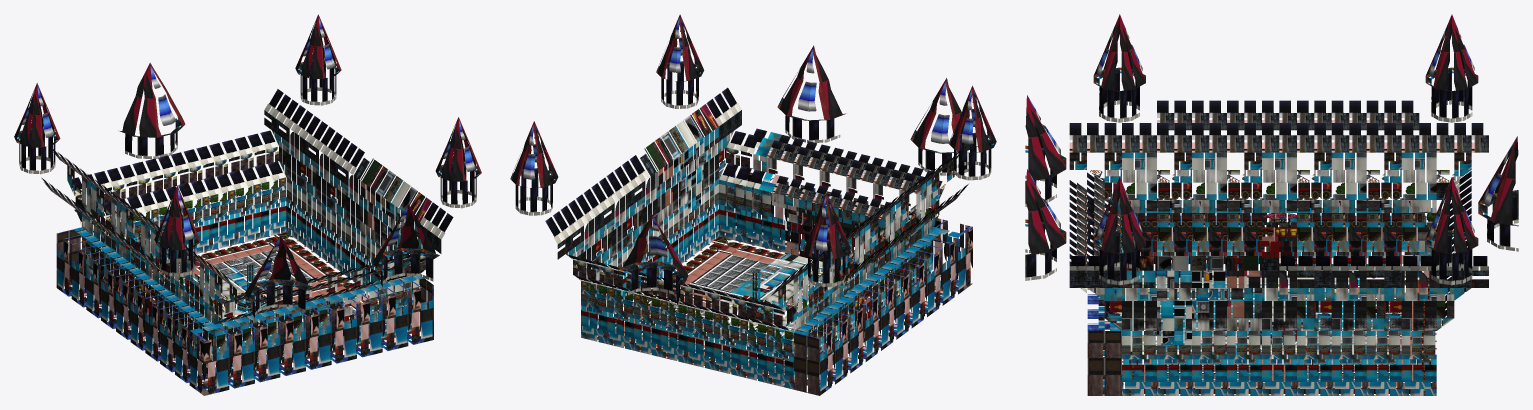
The picture shows the model from 3 angles, left to right: view 1: azimuth 30°, elevation 25°; view 2: azimuth 150°, elevation 25°; view 3: azimuth 270°, elevation 25°; orthographic projection. The views are drawn at different scales.
Parts seen in each view (by area): view 1: T1L1M003_137, T1L1M003_136, T1L1M003_141, T1L1M003_143, T1L1M003_40, T1L1M003_75, T1L1M003_142, T1L1M003_144, T1L1M003_140, T1L1M003_139, T1L1M003_138, T1L1M003_64 (+56 smaller); view 2: T1L1M003_143, T1L1M003_144, T1L1M003_131, T1L1M003_142, T1L1M003_31, T1L1M003_32, T1L1M003_119, T1L1M003_108, T1L1M003_141, T1L1M003_97, T1L1M003_64, T1L1M003_140 (+59 smaller); view 3: T1L1M003_53, T1L1M003_119, T1L1M003_108, T1L1M003_64, T1L1M003_97, T1L1M003_75, T1L1M003_40, T1L1M003_86, T1L1M003_131, T1L1M003_145, T1L1M003_56, T1L1M003_78 (+52 smaller).
Part boxes in pixels (<box>): T1L1M003_137: <box>214,273,254,388</box>; T1L1M003_136: <box>189,236,229,395</box>; T1L1M003_141: <box>317,268,356,363</box>; T1L1M003_143: <box>368,256,408,350</box>; T1L1M003_40: <box>286,105,312,242</box>; T1L1M003_75: <box>330,137,357,274</box>; T1L1M003_142: <box>342,264,382,357</box>; T1L1M003_144: <box>394,252,433,344</box>; T1L1M003_140: <box>291,274,331,369</box>; T1L1M003_139: <box>266,284,305,375</box>; T1L1M003_138: <box>240,286,280,382</box>; T1L1M003_64: <box>316,126,342,263</box>; T1L1M003_143: <box>745,137,787,249</box>; T1L1M003_144: <box>719,131,760,242</box>; T1L1M003_131: <box>675,46,718,247</box>; T1L1M003_142: <box>772,143,813,255</box>; T1L1M003_31: <box>793,252,834,395</box>; T1L1M003_32: <box>767,269,808,389</box>; T1L1M003_119: <box>675,115,703,258</box>; T1L1M003_108: <box>660,126,688,264</box>; T1L1M003_141: <box>798,150,840,261</box>; T1L1M003_97: <box>644,137,672,280</box>; T1L1M003_64: <box>599,172,626,313</box>; T1L1M003_140: <box>825,156,866,267</box>; T1L1M003_53: <box>1366,256,1401,395</box>; T1L1M003_119: <box>1157,256,1191,395</box>; T1L1M003_108: <box>1192,256,1226,395</box>; T1L1M003_64: <box>1331,256,1366,395</box>; T1L1M003_97: <box>1227,256,1261,395</box>; T1L1M003_75: <box>1297,256,1331,395</box>; T1L1M003_40: <box>1401,256,1436,395</box>; T1L1M003_86: <box>1262,256,1296,395</box>; T1L1M003_131: <box>1120,205,1156,395</box>; T1L1M003_145: <box>1087,205,1121,395</box>; T1L1M003_56: <box>1331,152,1366,292</box>; T1L1M003_78: <box>1262,152,1296,292</box>.
Bounding box in the file's own units: 50.38 × 30.5 × 56.44.
